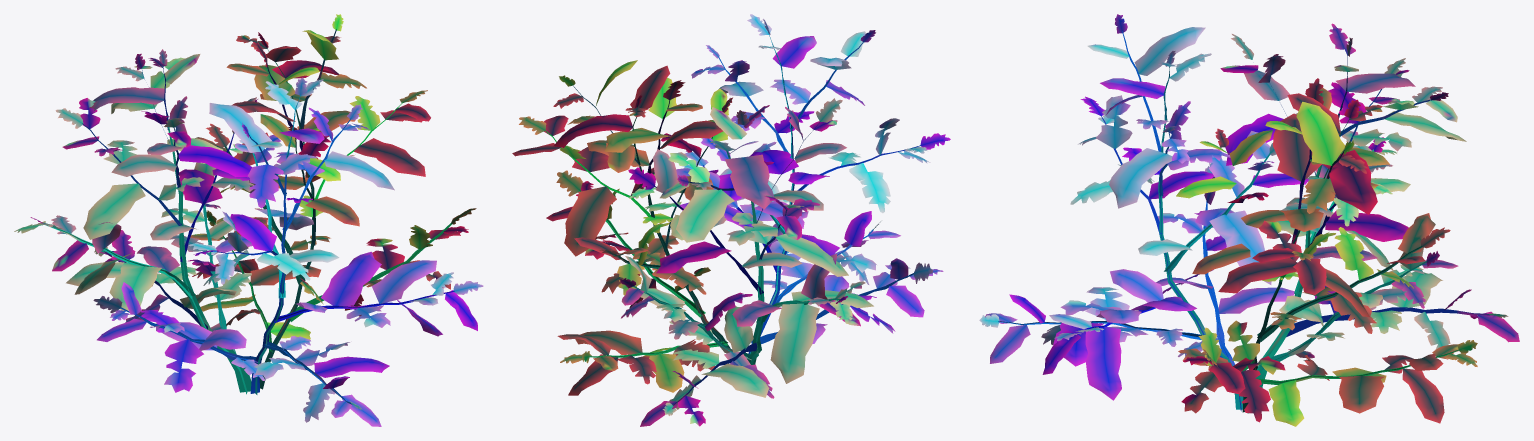
Rendered from Black_Locust_wdvhberja_Mid_wdvhberja_VarA_LOD1.fbx.
The picture shows the model from 3 angles, left to right: view 1: azimuth 30°, elevation 25°; view 2: azimuth 150°, elevation 25°; view 3: azimuth 270°, elevation 25°; orthographic projection. The views are drawn at different scales.
Visible parts, largest first — view 1: _edpl_VarA_LOD2; view 2: _edpl_VarA_LOD2; view 3: _edpl_VarA_LOD2.
Boxes of the visible parts, x1,y1,x2,y2 form: _edpl_VarA_LOD2: [14, 14, 483, 426]; _edpl_VarA_LOD2: [512, 14, 950, 426]; _edpl_VarA_LOD2: [979, 14, 1519, 426].
Size of the model in its own units: 136 by 116 by 153.
